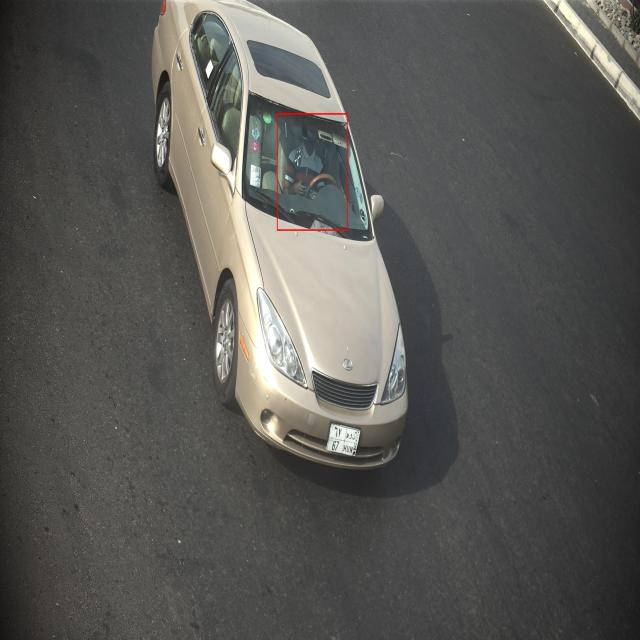windshield: (240, 88, 374, 239)
